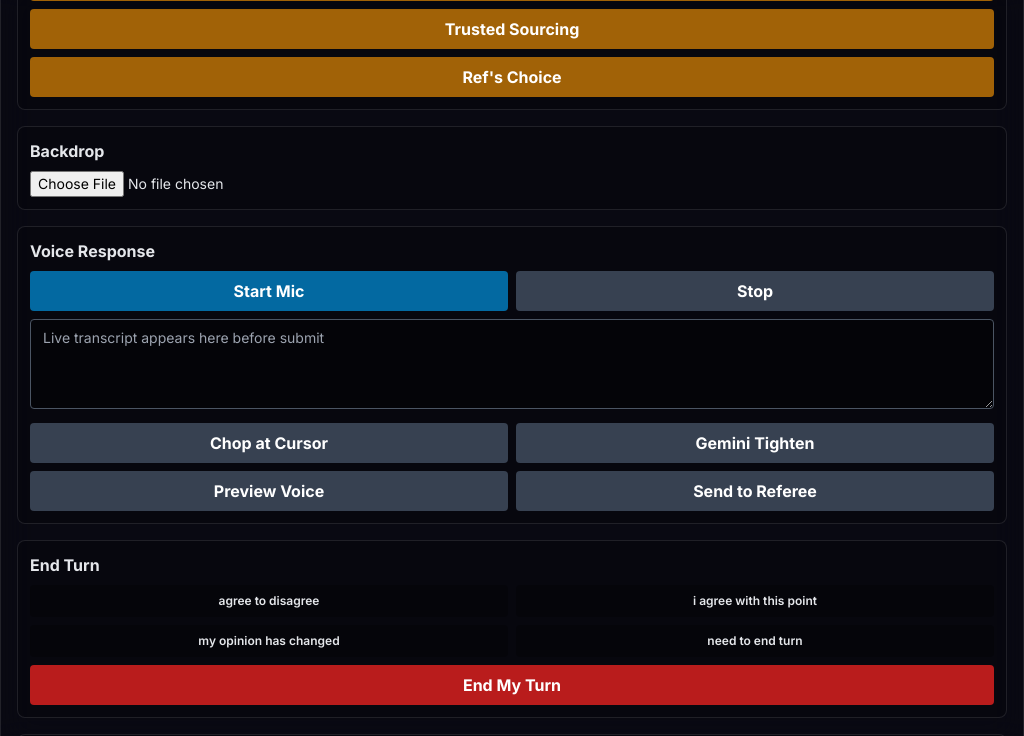
it: ControlsPanelV2 transcript workflow › applies an explicit Gemini transcript suggestion
(page scrolled)
Type "Um this is, this is my direct answer." into the text box with placeholder "Live transcript appears here before submit" at (512, 364), box [30,319,994,409]
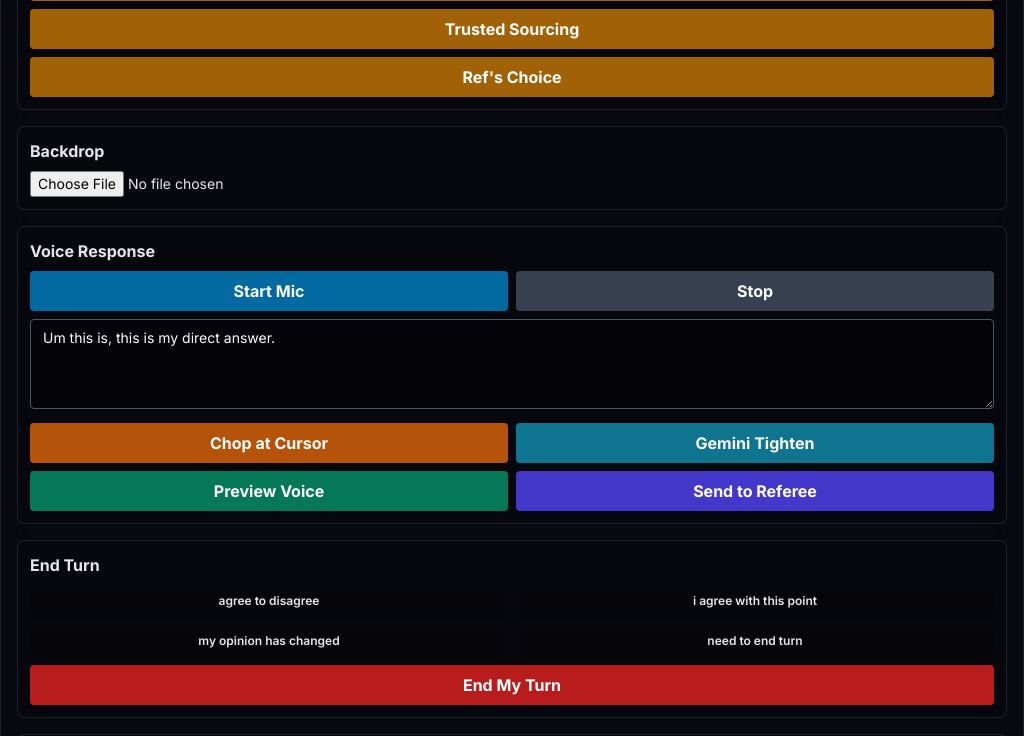
Click the button "Gemini Tighten" at (755, 443), box [516,423,994,463]
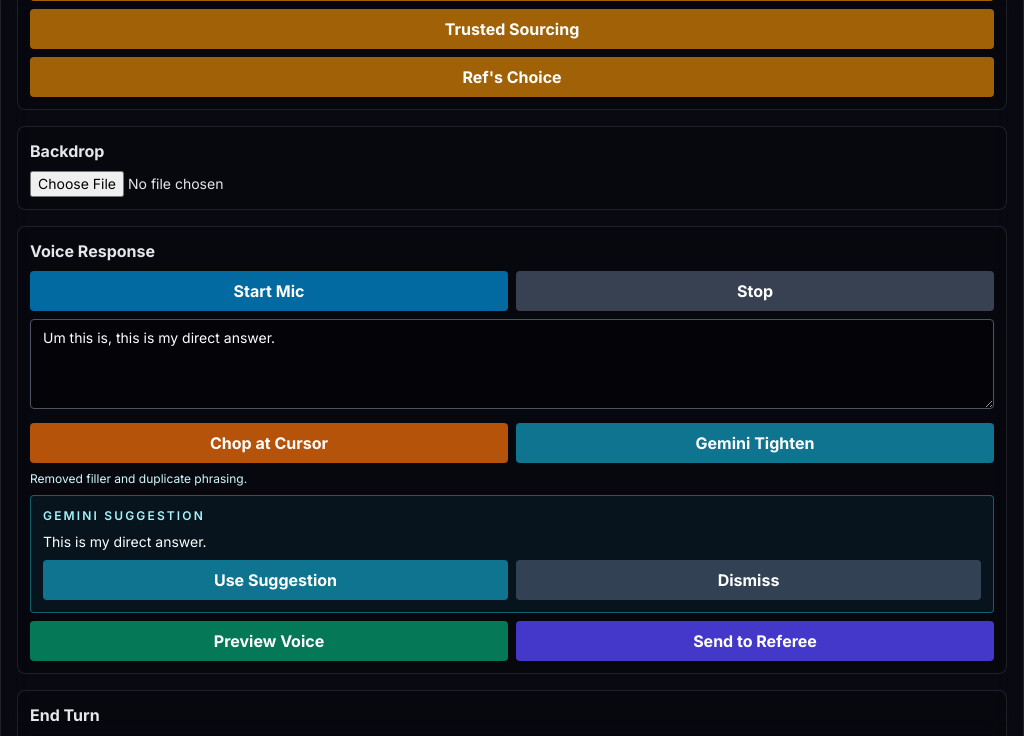
Check: the text "This is my direct answer." is shown, box [43,533,207,550]
Check: the text "Removed filler and duplicate phrasing." is shown, box [30,471,247,486]
Click the button "Use Suggestion" at (276, 580), box [43,560,508,600]
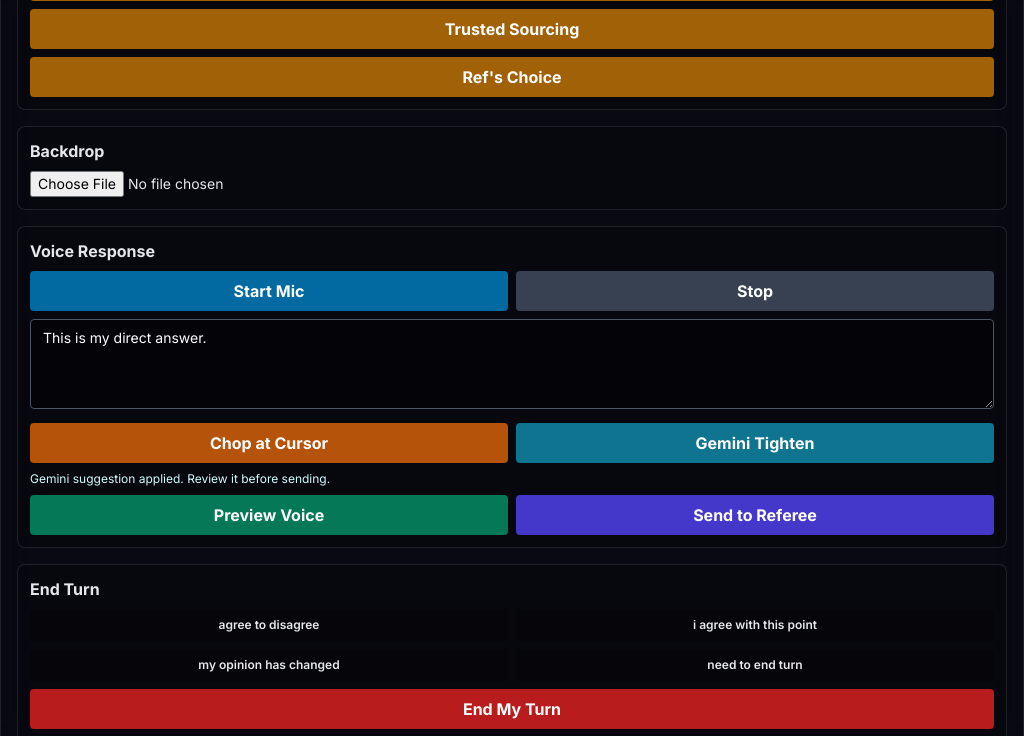
Check: the text box with placeholder "Live transcript appears here before submit" holds "This is my direct answer.", box [30,319,994,409]
